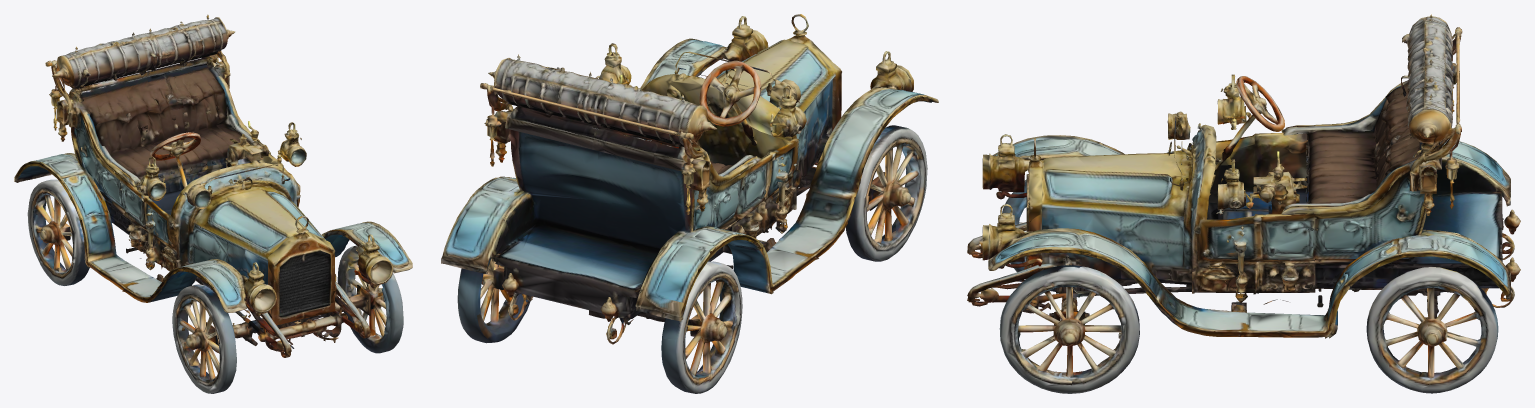
File: vintage-car.glb
3 renders of one model, left to right at view 1: azimuth 30°, elevation 25°; view 2: azimuth 150°, elevation 25°; view 3: azimuth 270°, elevation 25°, orthographic. The views are drawn at different scales.
Parts seen in each view (by area): view 1: tripo_node_c291e574-c605-4ab6-9d22-3dd8674c6d68; view 2: tripo_node_c291e574-c605-4ab6-9d22-3dd8674c6d68; view 3: tripo_node_c291e574-c605-4ab6-9d22-3dd8674c6d68.
Part boxes in pixels (x1,y1,x2,y2): tripo_node_c291e574-c605-4ab6-9d22-3dd8674c6d68: [14, 14, 412, 393]; tripo_node_c291e574-c605-4ab6-9d22-3dd8674c6d68: [441, 14, 938, 393]; tripo_node_c291e574-c605-4ab6-9d22-3dd8674c6d68: [967, 14, 1520, 393].
Size of the model in its own units: 0.5251 by 0.5734 by 0.9997.
1 material, 1 textured.
